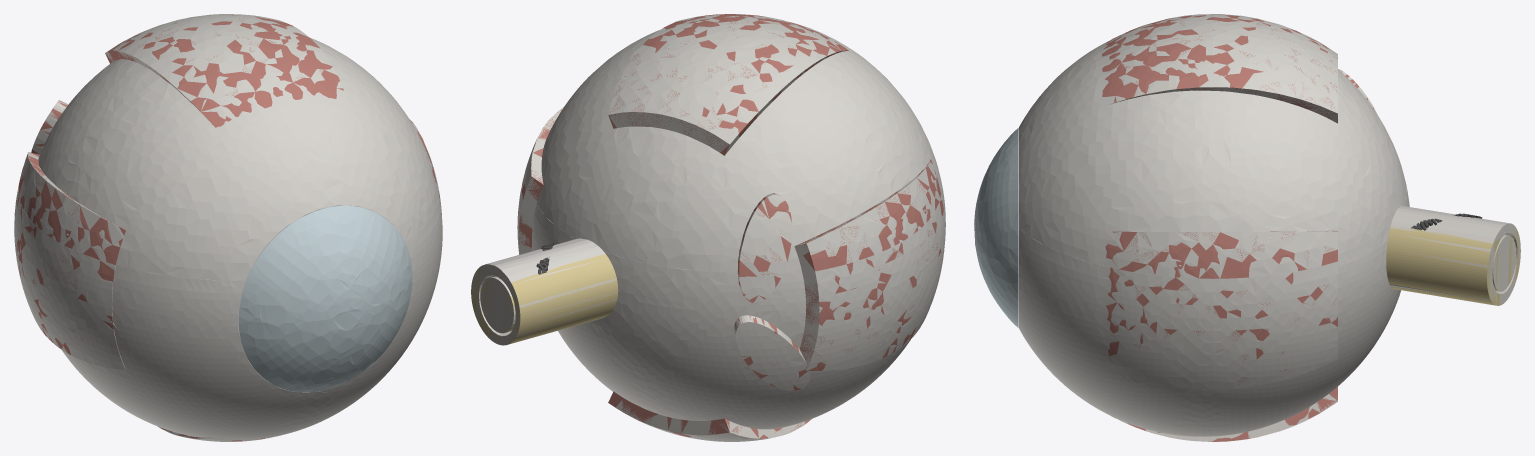
The model's file is goz.glb.
The picture shows the model from 3 angles, left to right: view 1: azimuth 30°, elevation 25°; view 2: azimuth 150°, elevation 25°; view 3: azimuth 270°, elevation 25°; orthographic projection.
Visible parts, largest first — view 1: ust|sklera, alt|sklera, kornea|kornea, ust|kas, alt|kas; view 2: ust|sklera, alt|sklera, ust|kas, alt|sinir, alt|kas; view 3: ust|sklera, alt|sklera, ust|kas, alt|sinir, kornea|kornea, alt|kas.
Boxes of the visible parts, <box> form: ust|sklera: <box>19,14,438,280</box>; alt|sklera: <box>14,186,442,441</box>; kornea|kornea: <box>238,205,412,392</box>; ust|kas: <box>18,15,437,264</box>; alt|kas: <box>14,188,441,441</box>; ust|sklera: <box>482,14,941,282</box>; alt|sklera: <box>471,177,945,441</box>; ust|kas: <box>521,14,940,276</box>; alt|sinir: <box>471,254,618,344</box>; alt|kas: <box>517,200,944,441</box>; ust|sklera: <box>1019,14,1512,278</box>; alt|sklera: <box>1019,182,1520,441</box>; ust|kas: <box>1102,14,1373,278</box>; alt|sinir: <box>1386,225,1520,305</box>; kornea|kornea: <box>974,128,1018,327</box>; alt|kas: <box>1106,267,1337,441</box>.
Bounding box in the file's own units: 123 × 123 × 157.
